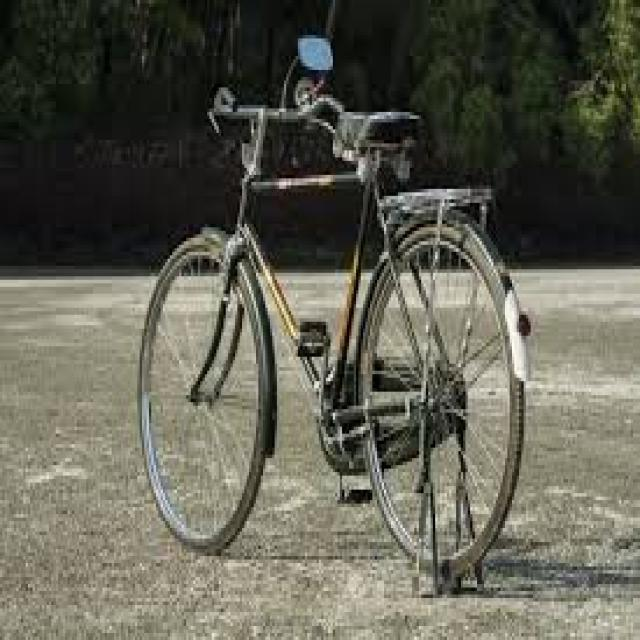bicycle: (136, 98, 520, 583)
